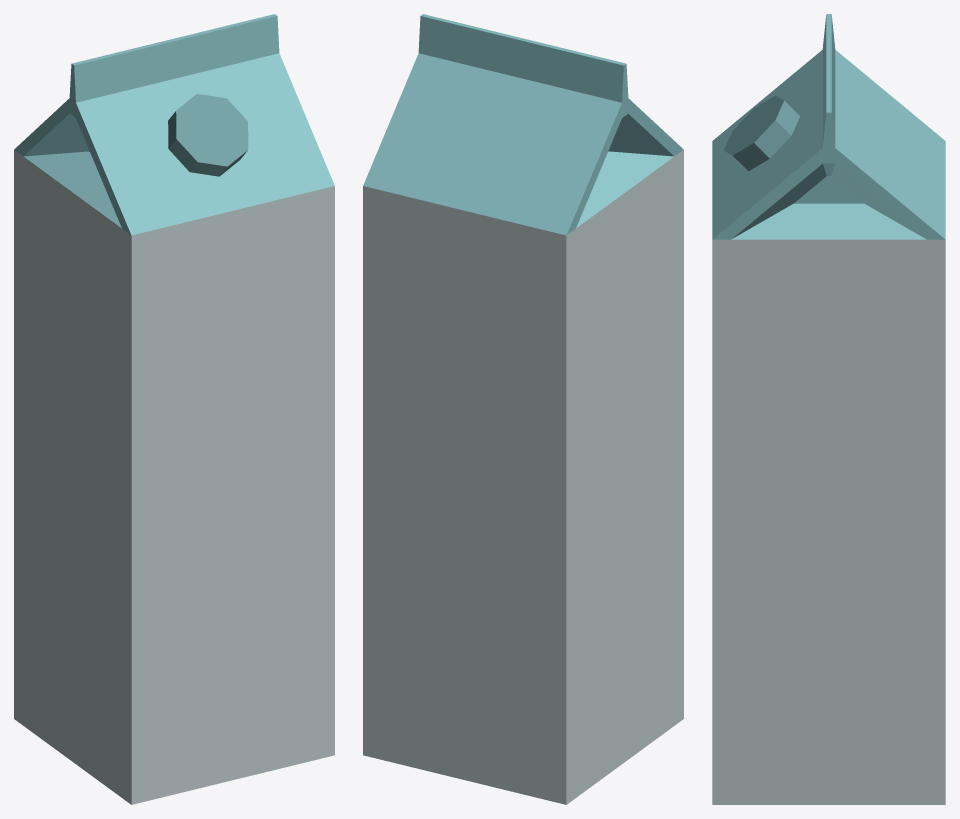
File: Milk.fbx
3 views of the same model, side by side, from view 1: azimuth 30°, elevation 25°; view 2: azimuth 150°, elevation 25°; view 3: azimuth 270°, elevation 25° (orthographic).
Parts seen in each view (by area): view 1: Milk; view 2: Milk; view 3: Milk.
Part boxes in pixels (box(x1,y1,x2,y2)): Milk: box(14, 14, 334, 804); Milk: box(363, 14, 683, 804); Milk: box(712, 14, 945, 804).
Bounding box in the file's own units: 1.9 × 6.22 × 1.9.
